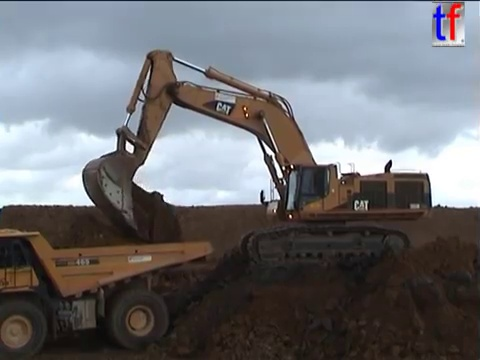excavator: (79, 47, 435, 274)
truck: (1, 225, 214, 360)
